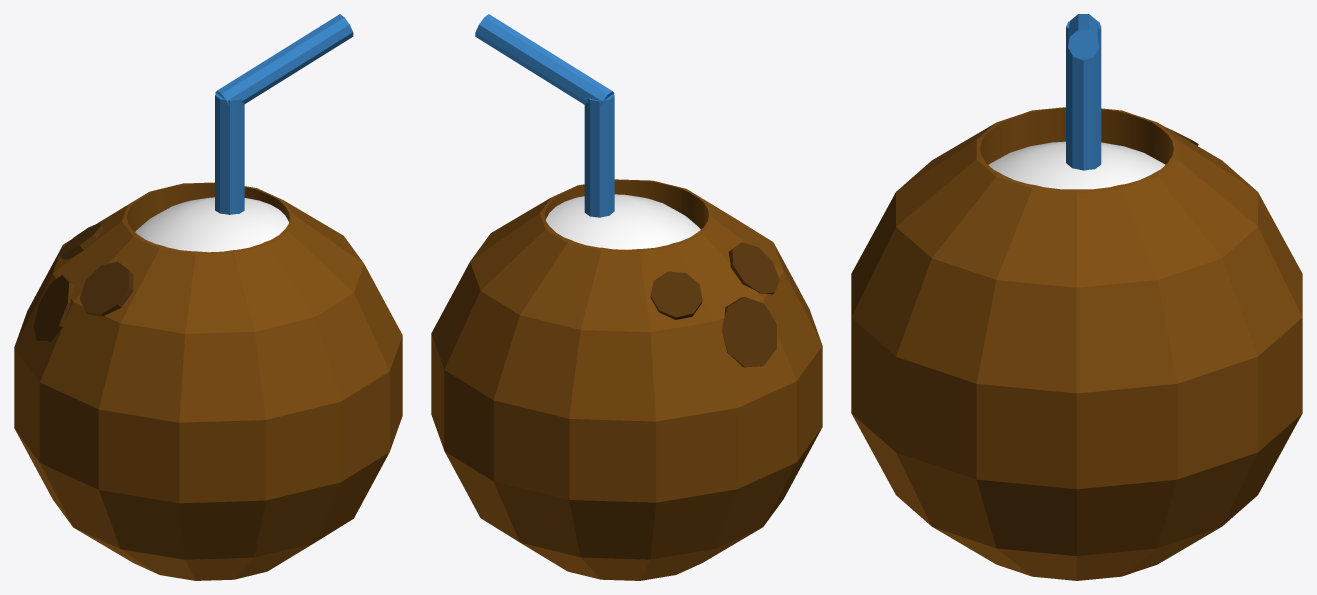
The model's file is коктелька.fbx.
3 renders of one model, left to right at view 1: azimuth 30°, elevation 25°; view 2: azimuth 150°, elevation 25°; view 3: azimuth 270°, elevation 25°, orthographic. The views are drawn at different scales.
Visible parts, largest first — view 1: Объект_Сфера, Объект_Сфера_1, Объект_Цилиндр_1, Объект_Цилиндр, Объект_Цилиндр_3, Объект_Цилиндр_1_2, Объект_Цилиндр_2, Объект_Цилиндр_2_2; view 2: Объект_Сфера, Объект_Сфера_1, Объект_Цилиндр_1, Объект_Цилиндр, Объект_Цилиндр_2, Объект_Цилиндр_3, Объект_Цилиндр_2_2, Объект_Цилиндр_1_2; view 3: Объект_Сфера, Объект_Сфера_1, Объект_Цилиндр_3, Объект_Цилиндр, Объект_Цилиндр_1.
Boxes of the visible parts, x1,y1,x2,y2 form: Объект_Сфера: (14, 182, 402, 580); Объект_Сфера_1: (135, 197, 288, 252); Объект_Цилиндр_1: (215, 14, 353, 105); Объект_Цилиндр: (215, 93, 244, 214); Объект_Цилиндр_3: (127, 183, 289, 231); Объект_Цилиндр_1_2: (79, 261, 133, 316); Объект_Цилиндр_2: (33, 275, 74, 342); Объект_Цилиндр_2_2: (59, 223, 103, 259); Объект_Сфера: (431, 179, 822, 580); Объект_Сфера_1: (546, 194, 700, 249); Объект_Цилиндр_1: (475, 14, 614, 106); Объект_Цилиндр: (584, 93, 614, 217); Объект_Цилиндр_2: (722, 297, 776, 367); Объект_Цилиндр_3: (545, 180, 708, 229); Объект_Цилиндр_2_2: (650, 271, 702, 319); Объект_Цилиндр_1_2: (728, 242, 779, 294); Объект_Сфера: (851, 107, 1302, 580); Объект_Сфера_1: (988, 141, 1165, 189); Объект_Цилиндр_3: (980, 108, 1173, 164); Объект_Цилиндр: (1066, 21, 1101, 170); Объект_Цилиндр_1: (1068, 14, 1099, 60).
Size of the model in its own units: 289 by 419 by 282.
